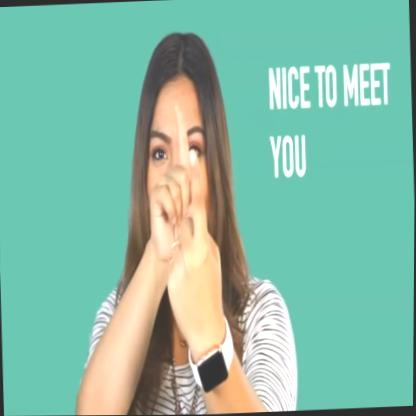NiceToMeetYou: (134, 91, 235, 362)
